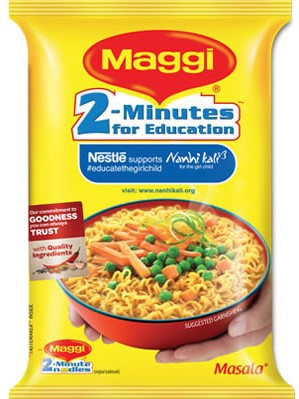maggi: (30, 21, 276, 385)
